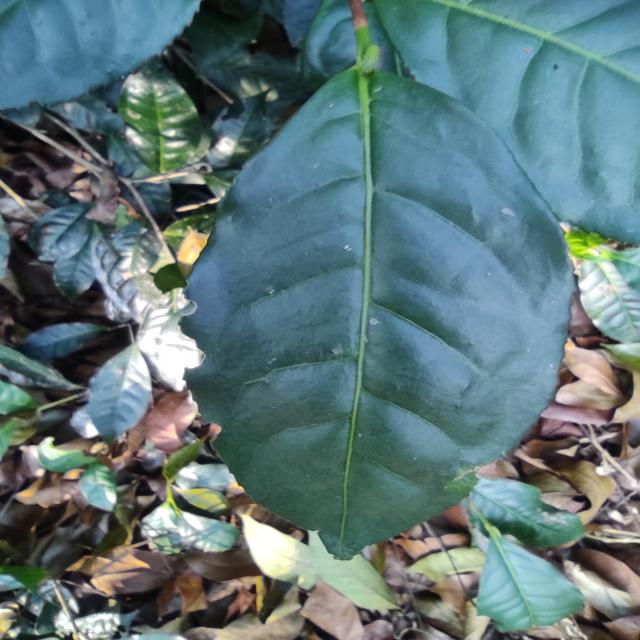Category D(7+ days, Not for Tea): (166, 51, 586, 565)
